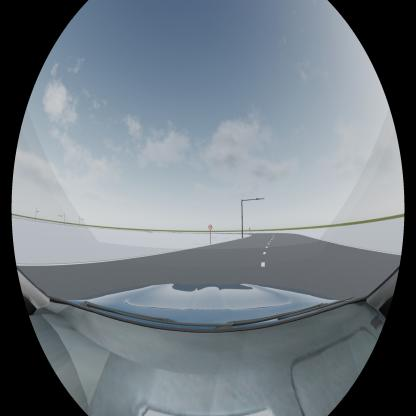Speed Limit 110: (209, 224, 212, 230)
